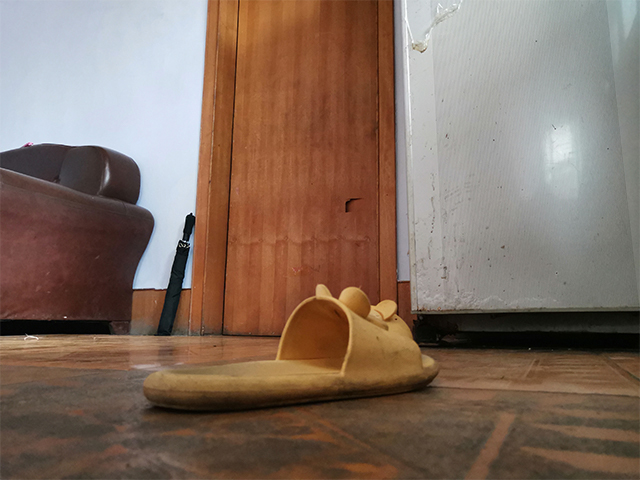slippers: (141, 281, 443, 415)
sofa: (1, 140, 156, 336)
